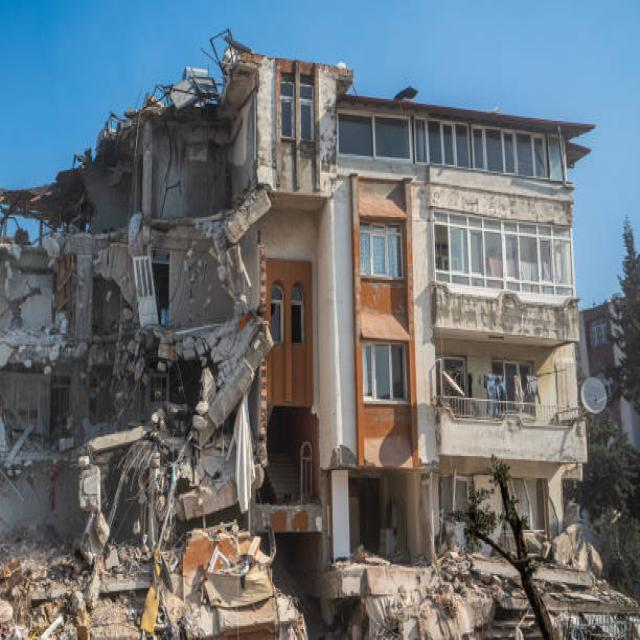Destroyed_building: (2, 0, 634, 640)
